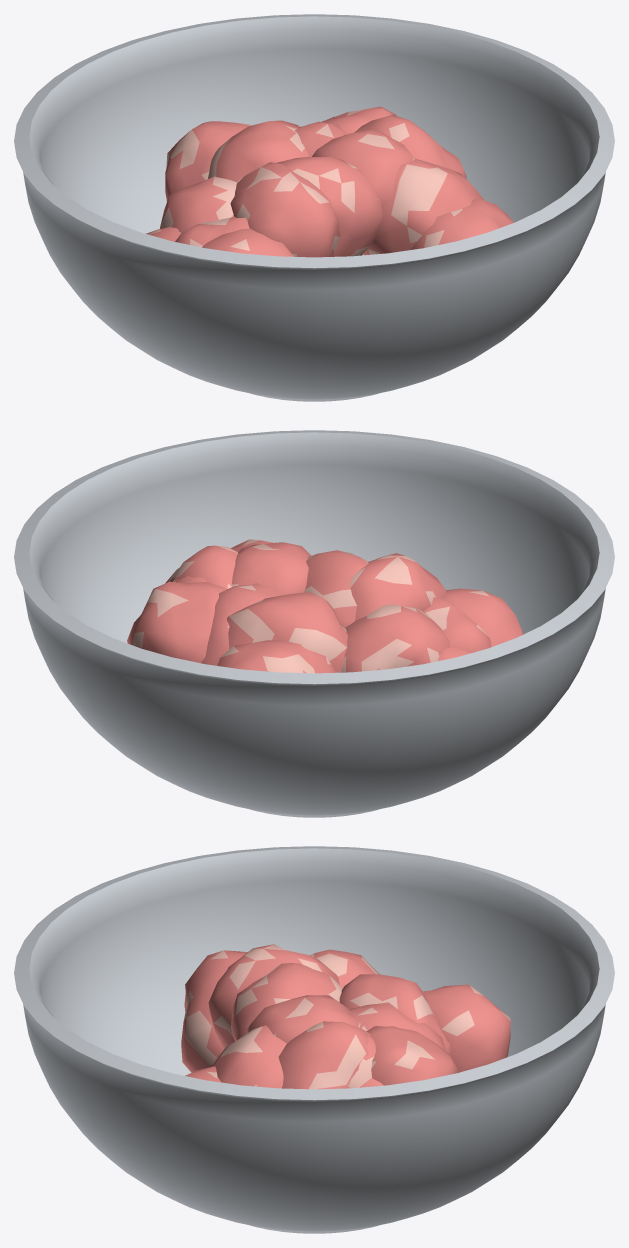
Rendered from Chicken_Bowl.fbx.
The picture shows the model from 3 angles, top to bottom: view 1: azimuth 30°, elevation 25°; view 2: azimuth 150°, elevation 25°; view 3: azimuth 270°, elevation 25°; orthographic projection.
Parts seen in each view (by area): view 1: Chicken_Bowl; view 2: Chicken_Bowl; view 3: Chicken_Bowl.
Part boxes in pixels (bbox=[...]): Chicken_Bowl: bbox=[14, 14, 614, 401]; Chicken_Bowl: bbox=[14, 430, 614, 817]; Chicken_Bowl: bbox=[14, 846, 614, 1233].
Bounding box in the file's own units: 0.127 × 0.0502 × 0.127.
